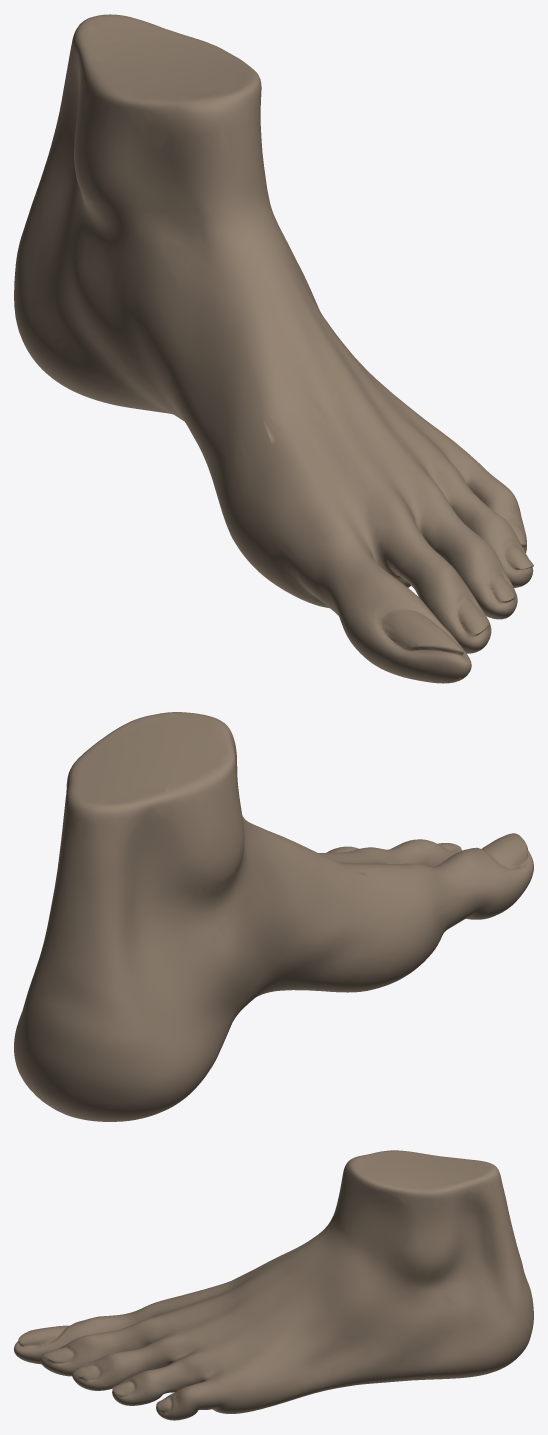
Rendered from foot.greek.optimized.glb.
The picture shows the model from 3 angles, top to bottom: view 1: azimuth 30°, elevation 25°; view 2: azimuth 150°, elevation 25°; view 3: azimuth 270°, elevation 25°; orthographic projection. The views are drawn at different scales.
Visible parts, largest first — view 1: Foot_Greek; view 2: Foot_Greek; view 3: Foot_Greek.
Part boxes in pixels (left/top/right/bottom): Foot_Greek: left=14, top=14, right=533, bottom=683; Foot_Greek: left=14, top=712, right=533, bottom=1121; Foot_Greek: left=14, top=1150, right=533, bottom=1420.
Bounding box in the file's own units: 2.63 × 3.65 × 7.88.
